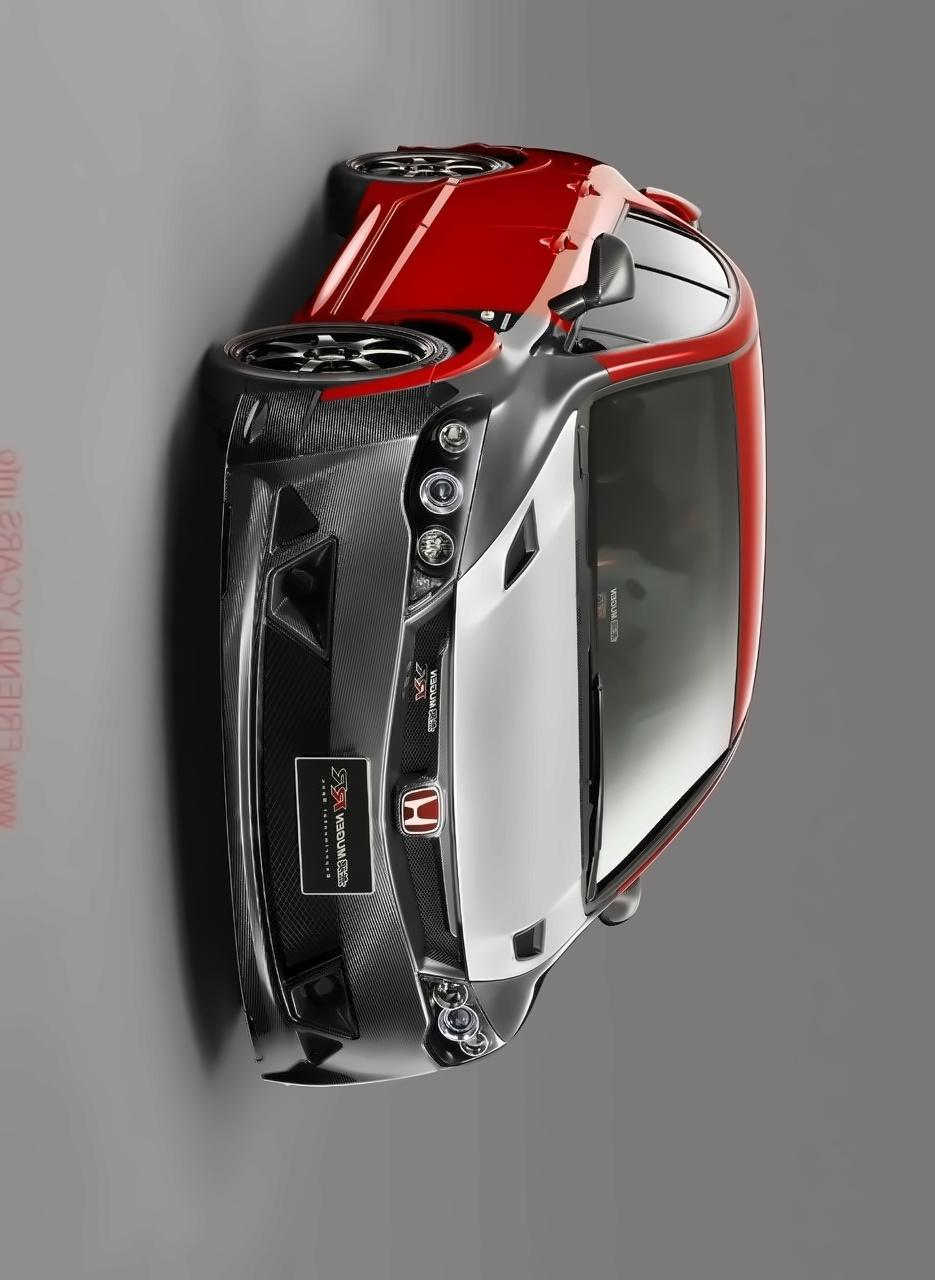Car hood: (450, 382, 607, 993)
Driver-s door - -F-R-: (316, 223, 740, 357)
Fender - -F-R-: (278, 302, 602, 439)
Front bumper: (204, 382, 427, 1100)
Headlight - -L-: (402, 934, 516, 1075)
Headlight - -R-: (392, 384, 504, 629)
Passenger-s door - -R-R-: (380, 168, 725, 243)
Side bumper - -R-: (284, 176, 405, 332)
Side mirror - -L-: (584, 860, 651, 937)
Side mirror - -R-: (538, 218, 640, 330)
